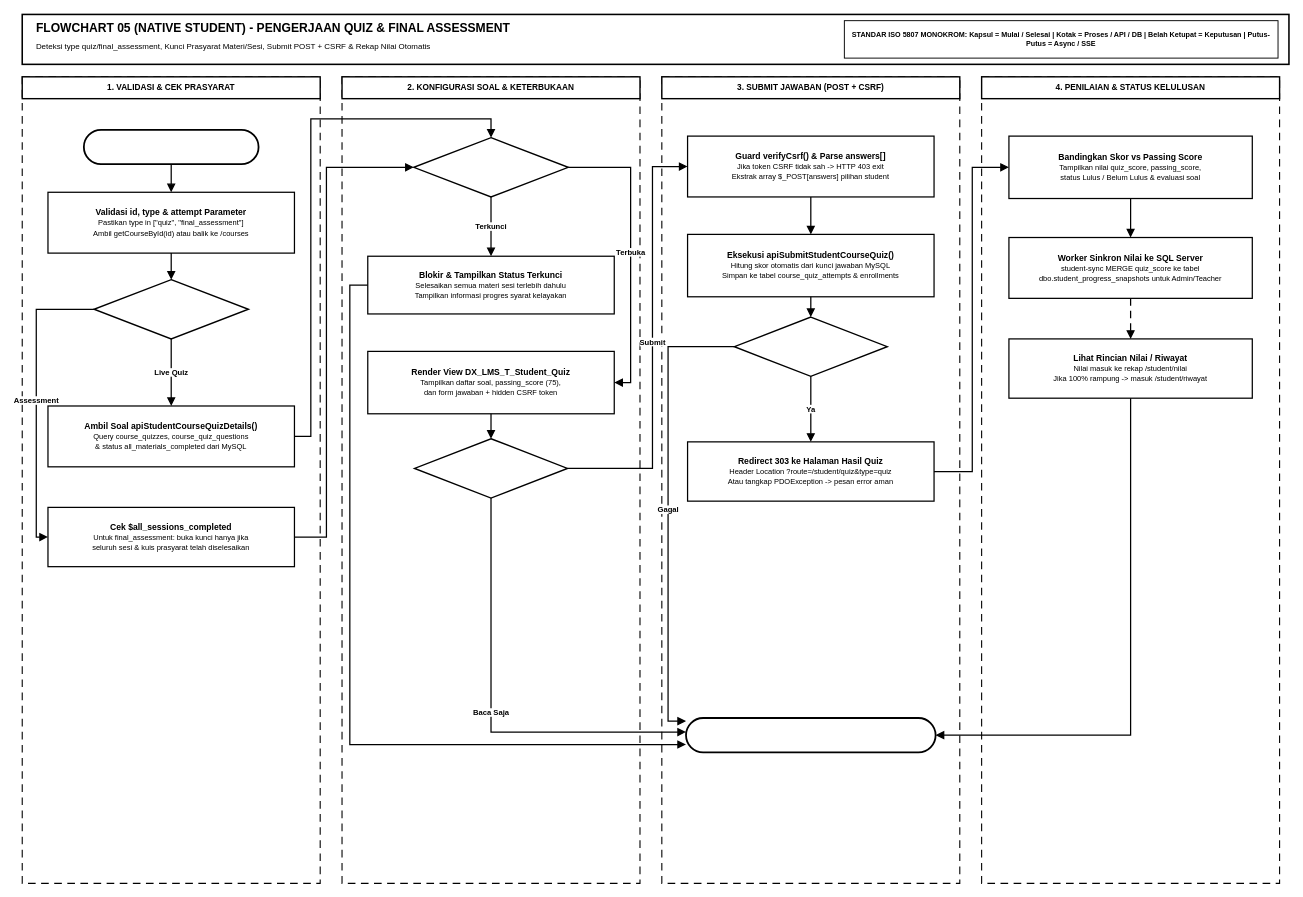
Some shapes in this 1303 by 897 pixel diagram are drawn without their labels. The box of each missing label's shape, as (x1, y1, x2, y2) in pixels:
BUKA /student/quiz: (83, 129, 259, 165)
Course Live & type = quiz?: (93, 279, 249, 339)
HASIL EVALUASI QUIZ TERCATAT: (685, 717, 936, 753)
Simpan Database Sukses?: (733, 316, 888, 377)
Status Quiz = Terbuka (Unlock)?: (413, 137, 569, 197)
Student Kirim Jawaban POST?: (413, 438, 568, 498)
